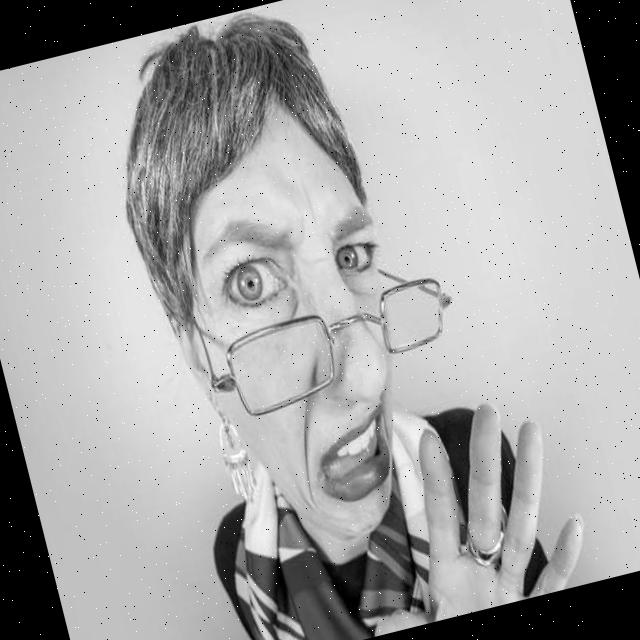Disgust: (154, 117, 450, 566)
